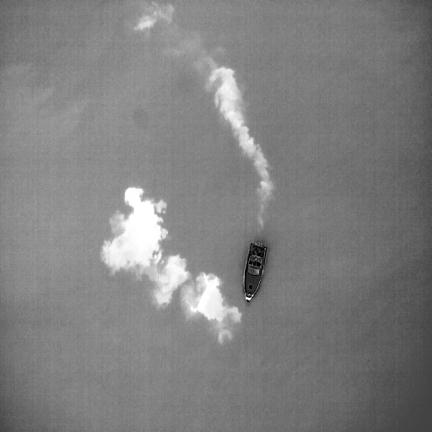flukeprints: (101, 187, 167, 279), (185, 273, 240, 325), (146, 256, 190, 305), (218, 329, 231, 342)
